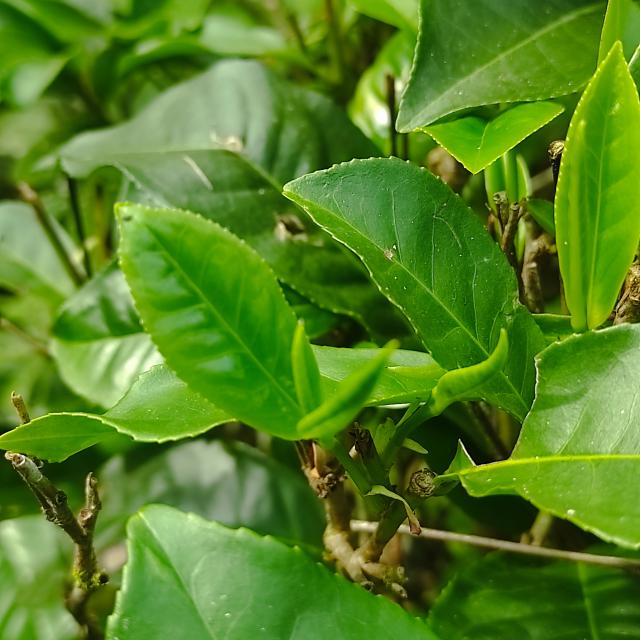unopened_leaf: (419, 320, 519, 428), (558, 114, 602, 338), (280, 314, 330, 416)
